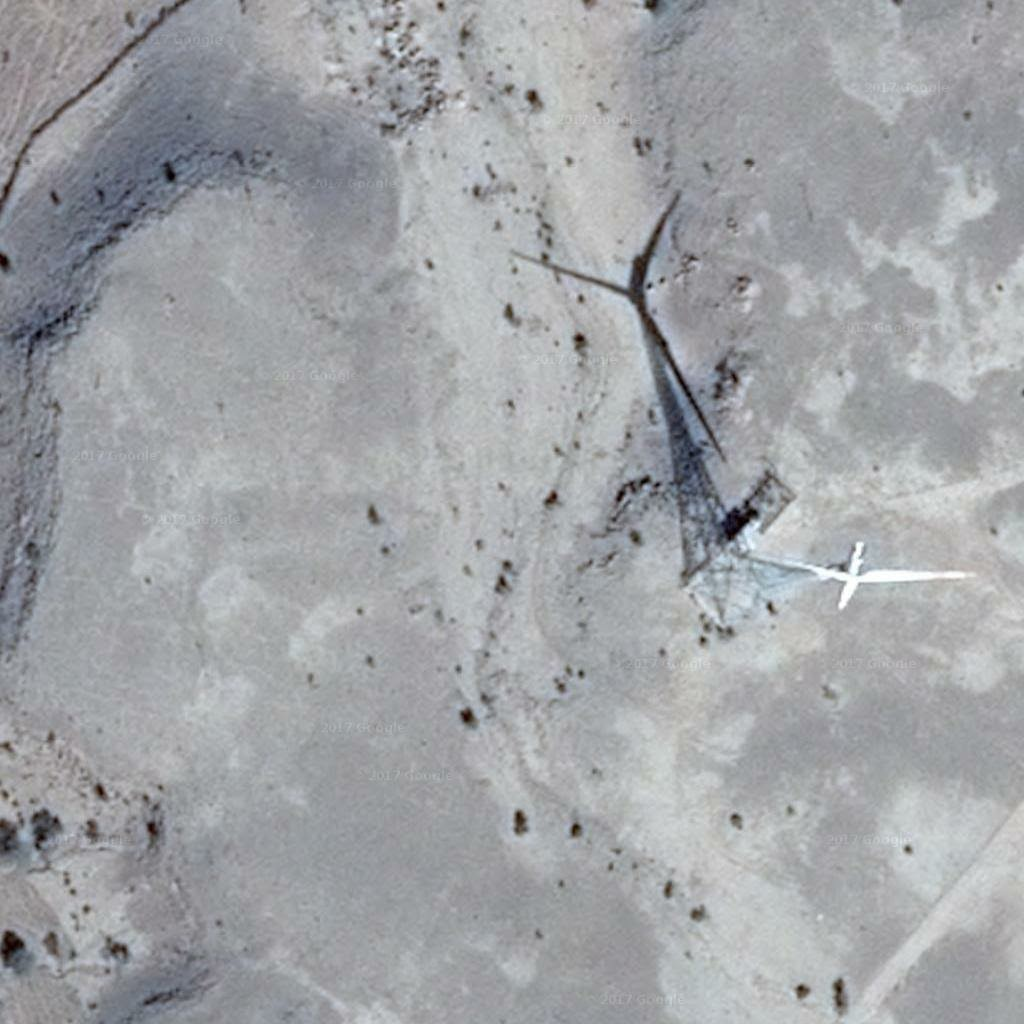Windmill: (507, 217, 796, 562)
